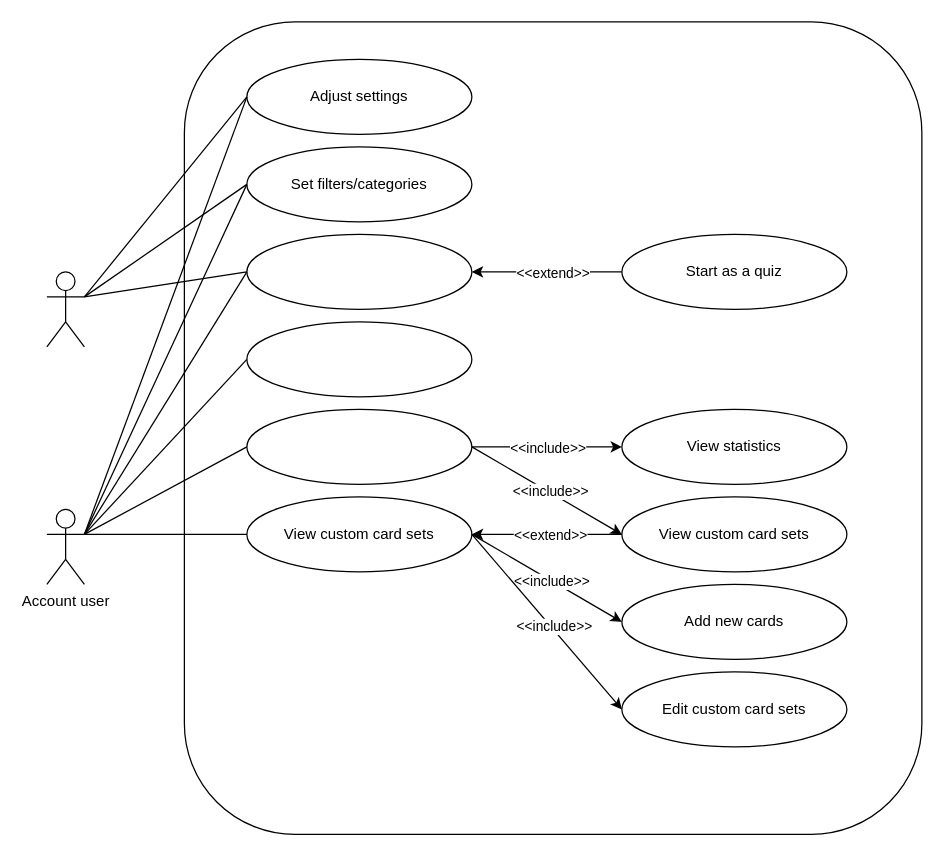
This 944x856 diagram has some shape labels left out. Each missing label, with the box of its shape:
Log in: (246, 321, 472, 397)
Regular user: (46, 271, 84, 347)
Start a session: (246, 233, 472, 309)
View profile: (246, 408, 472, 484)
